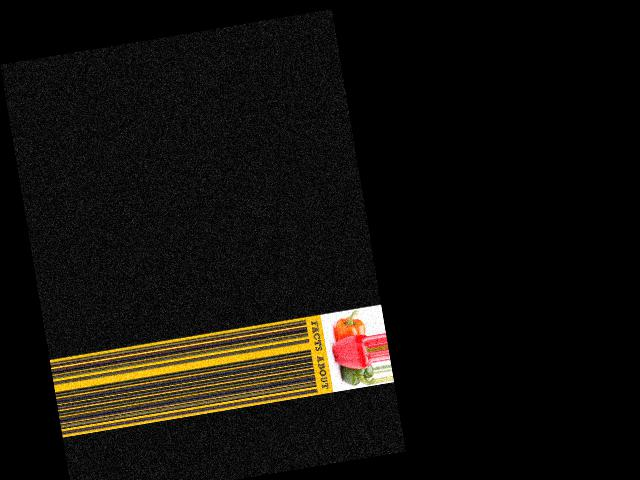bell_pepper: (335, 364, 374, 390)
